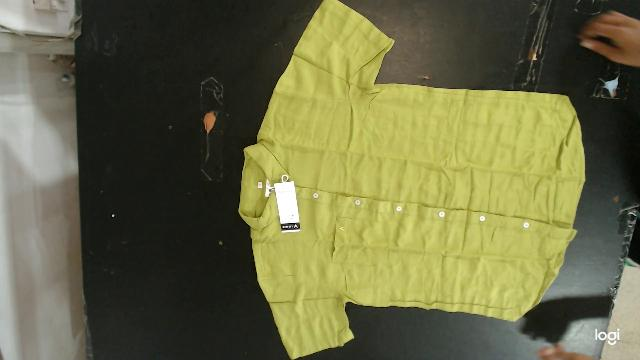new-garment: (239, 0, 585, 358)
